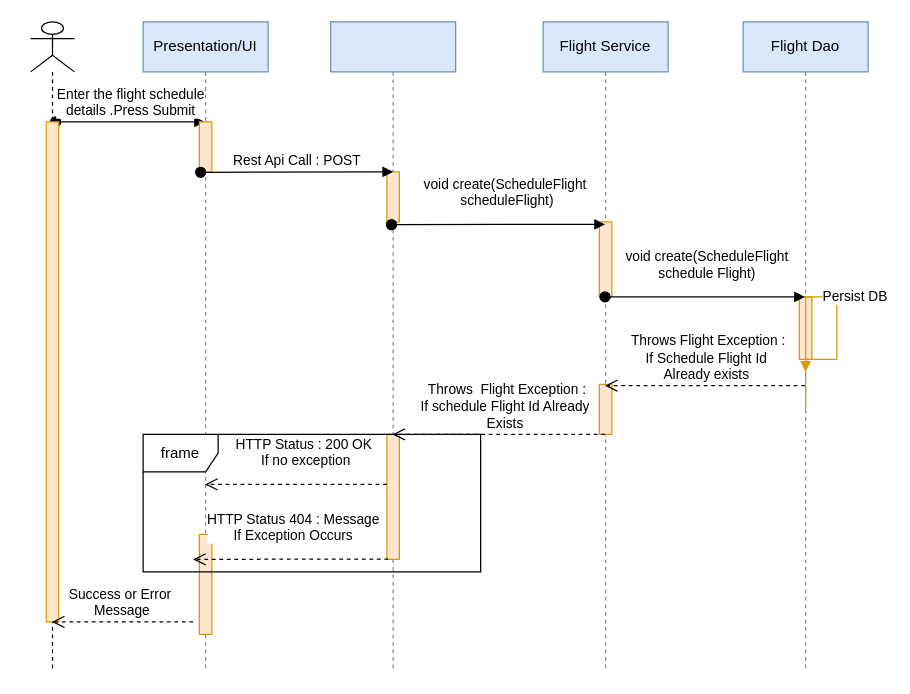
The diagram is 910 pixels wide and 694 high, and some of its shapes have lost their labels. The box of each missing label's shape, as (x1, y1, x2, y2) in pixels:
Admin: (29, 21, 74, 672)
Flight Controller: (329, 21, 456, 672)
